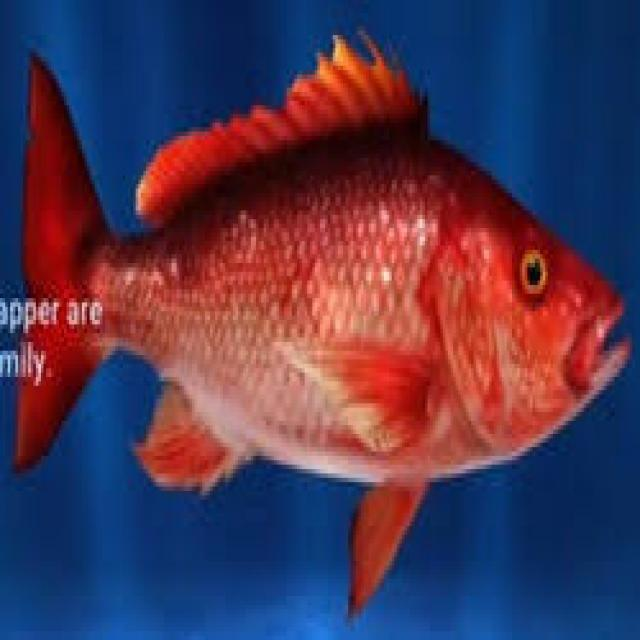northern-red-snapper: (14, 9, 634, 607)
